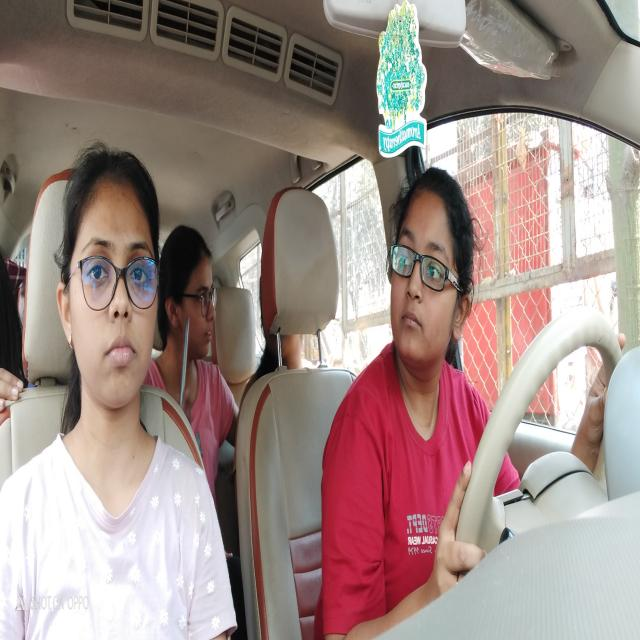LeftRight: (387, 164, 479, 370)
person: (55, 143, 160, 411), (161, 224, 220, 357)
